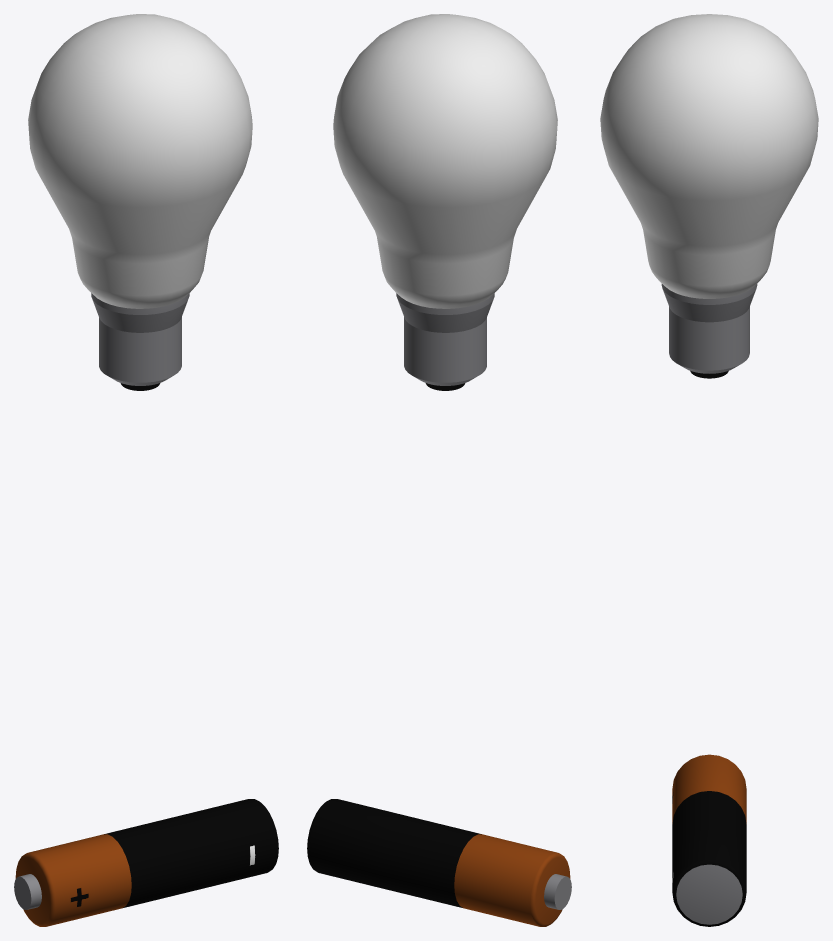
Rendered from voltage-scene.glb.
The picture shows the model from 3 angles, left to right: view 1: azimuth 30°, elevation 25°; view 2: azimuth 150°, elevation 25°; view 3: azimuth 270°, elevation 25°; orthographic projection. The views are drawn at different scales.
Visible parts, largest first — view 1: bulb, battery; view 2: bulb, battery; view 3: bulb, battery.
Part boxes in pixels (x1,y1,x2,y2): bulb: (28,14,252,390); battery: (14,799,278,926); bulb: (333,14,557,390); battery: (307,799,571,926); bulb: (600,14,818,378); battery: (672,754,746,926).
Bounding box in the file's own units: 1.69 × 5.91 × 1.38.
2 materials, 1 textured.
